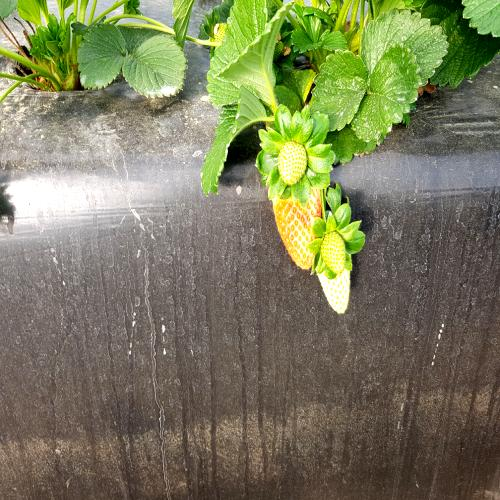partially-ripe: (269, 166, 325, 272)
